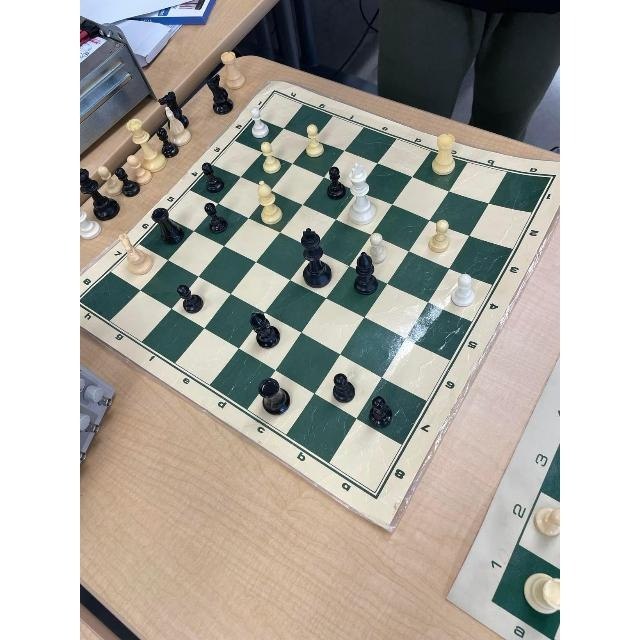black-bishop: (244, 306, 285, 349), (352, 252, 379, 296)
black-king: (296, 226, 334, 290)
black-pawn: (366, 392, 394, 433), (329, 367, 356, 408), (202, 197, 230, 236), (175, 281, 207, 315), (200, 158, 226, 194), (325, 163, 347, 203)
black-rook: (255, 373, 294, 415), (149, 204, 188, 246)
white-bishop: (252, 179, 286, 227)
white-king: (345, 160, 379, 225)
white-knight: (116, 227, 157, 280)
white-pawn: (427, 215, 457, 255), (449, 268, 477, 310), (255, 141, 284, 177), (302, 118, 326, 159), (367, 230, 391, 265), (249, 105, 272, 139)
white-rook: (429, 128, 461, 177)
